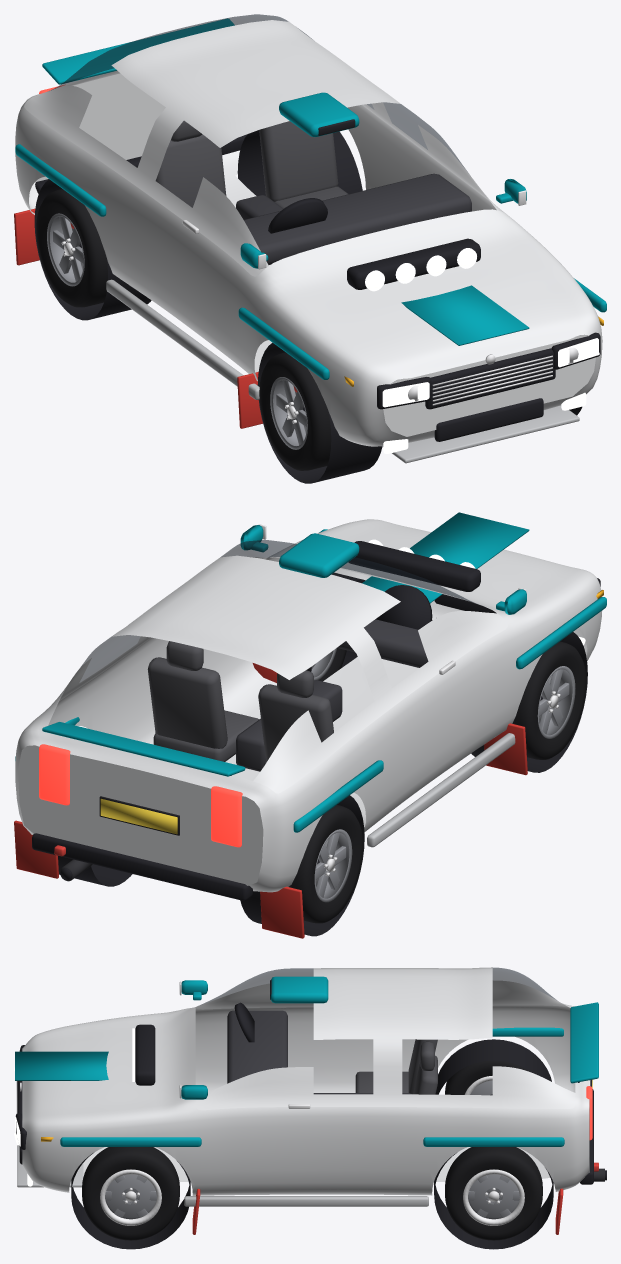
Rendered from car_03_rally.glb.
The picture shows the model from 3 angles, top to bottom: view 1: azimuth 30°, elevation 25°; view 2: azimuth 150°, elevation 25°; view 3: azimuth 270°, elevation 25°; orthographic projection. The views are drawn at different scales.
Visible parts, largest first — view 1: Body, Details, Cabin, Interior, Wheel_FL_Mesh, Wheel_RL_Mesh; view 2: Body, Details, Cabin, Interior, Wheel_FL_Mesh, Wheel_RL_Mesh, Wheel_FR_Mesh; view 3: Body, Cabin, Details, Wheel_FR_Mesh, Wheel_RR_Mesh, Interior, Wheel_RL_Mesh.
Part boxes in pixels (x1,y1,x2,y2): Body: (15,70,602,446); Details: (14,18,606,483); Cabin: (24,14,505,276); Interior: (35,120,471,264); Wheel_FL_Mesh: (259,352,331,470); Wheel_RL_Mesh: (36,189,107,307); Body: (15,519,601,892); Details: (14,512,606,938); Cabin: (24,540,507,793); Interior: (32,585,432,900); Wheel_FL_Mesh: (514,641,586,759); Wheel_RL_Mesh: (291,805,362,923); Wheel_FR_Mesh: (311,648,346,681); Body: (22,1005,589,1195); Cabin: (195,967,575,1110); Details: (14,976,606,1249); Wheel_FR_Mesh: (82,1147,179,1240); Wheel_RR_Mesh: (445,1147,542,1240); Interior: (227,1002,593,1184); Wheel_RL_Mesh: (445,1060,529,1095).
Size of the model in its own units: 1.87 by 1.64 by 4.12.
